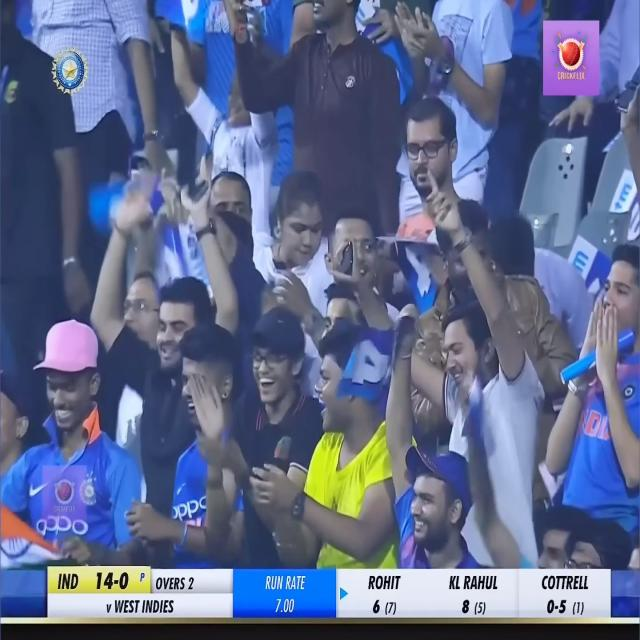partially_visible: (563, 235, 600, 288)
